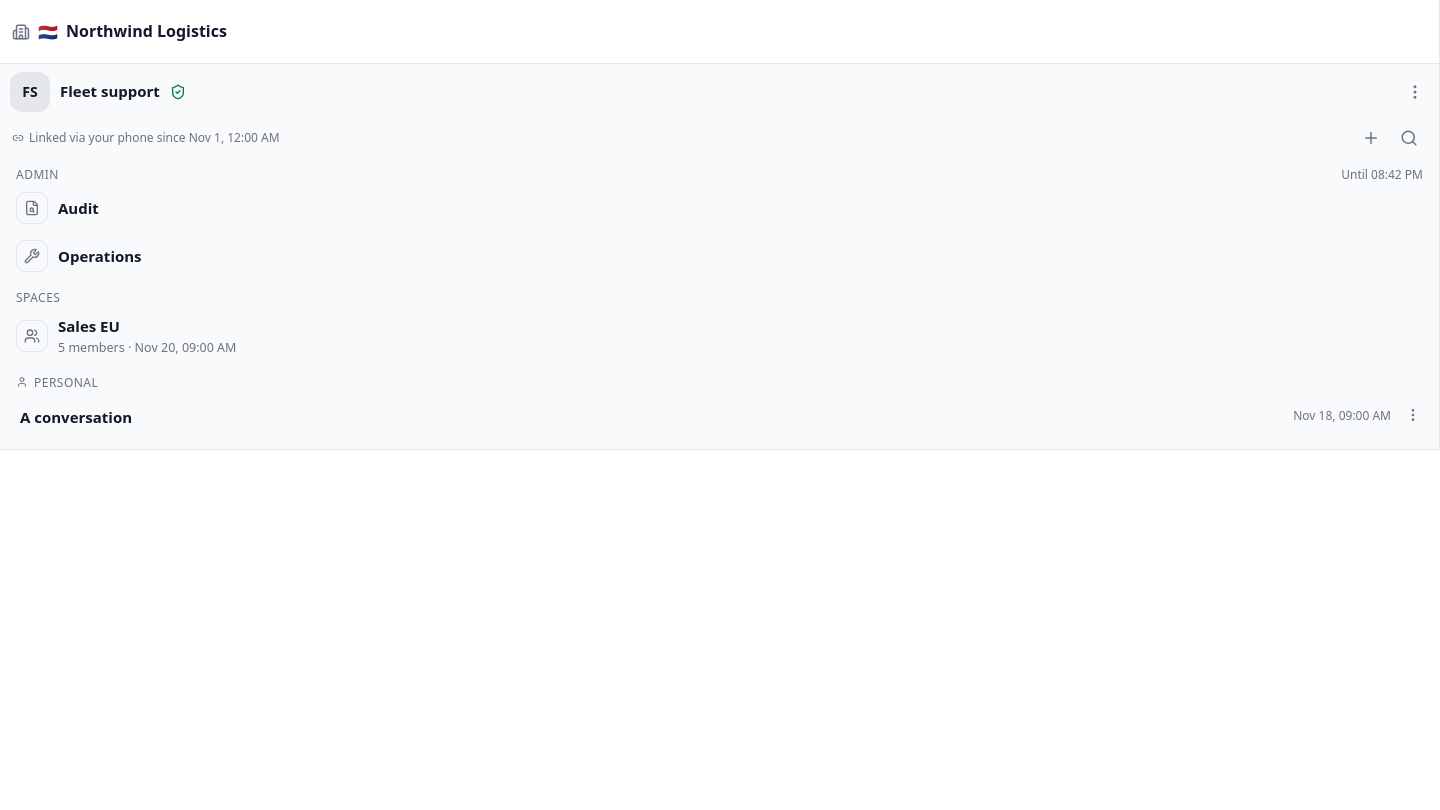
the ADMIN area, exactly while the grant is open (UI-ADMIN-003) › shows Audit and Operations to a holder of both, each opening its page with no further question
Click the button with class "space-row" showing "Audit": point(32, 208) [8,185,1431,231]
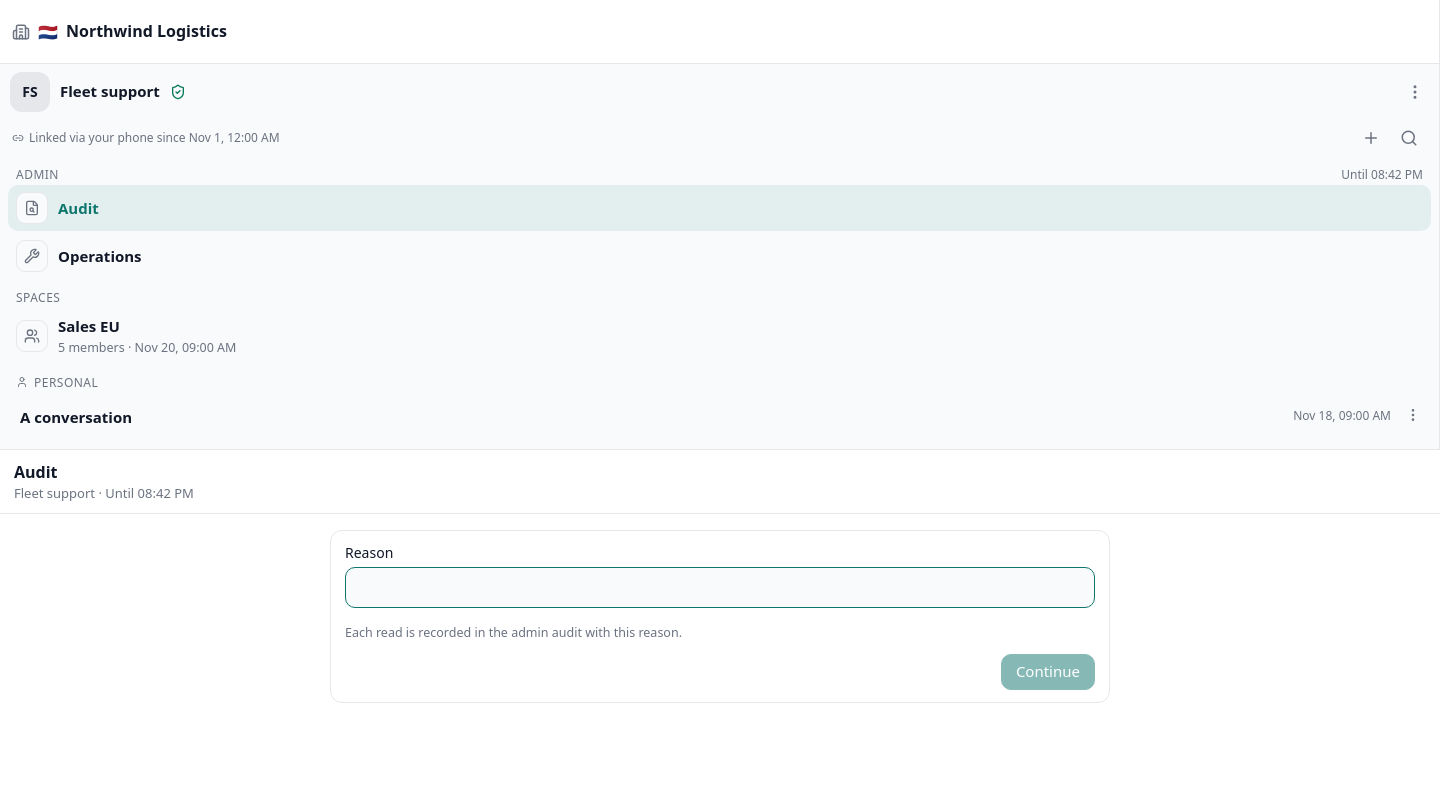
Check: the heading "Audit" is shown, box [14,460,58,482]
Click the button with class "space-row" showing "Operations": point(32, 256) [8,233,1431,279]
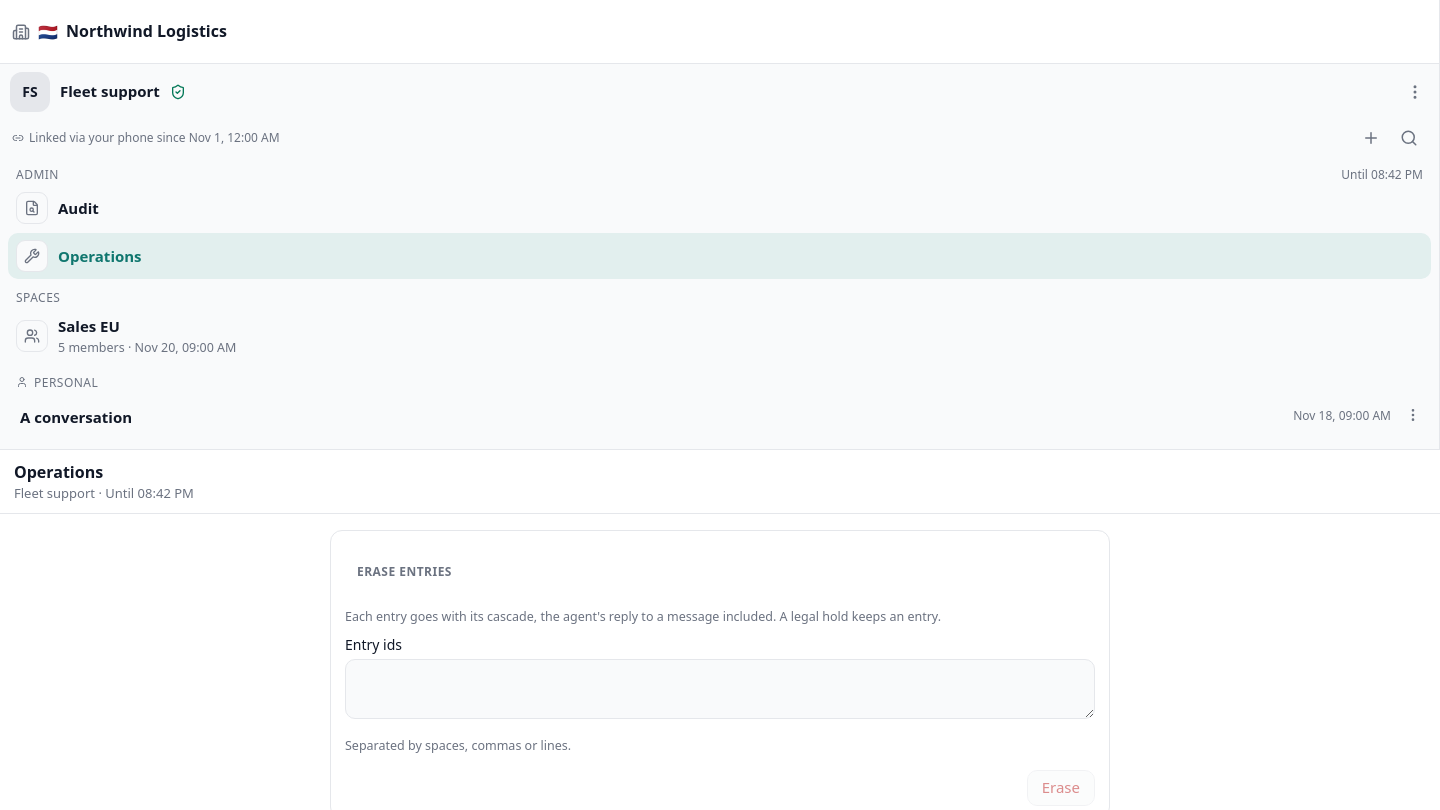
Check: the heading "Operations" is shown, box [14,460,103,482]
